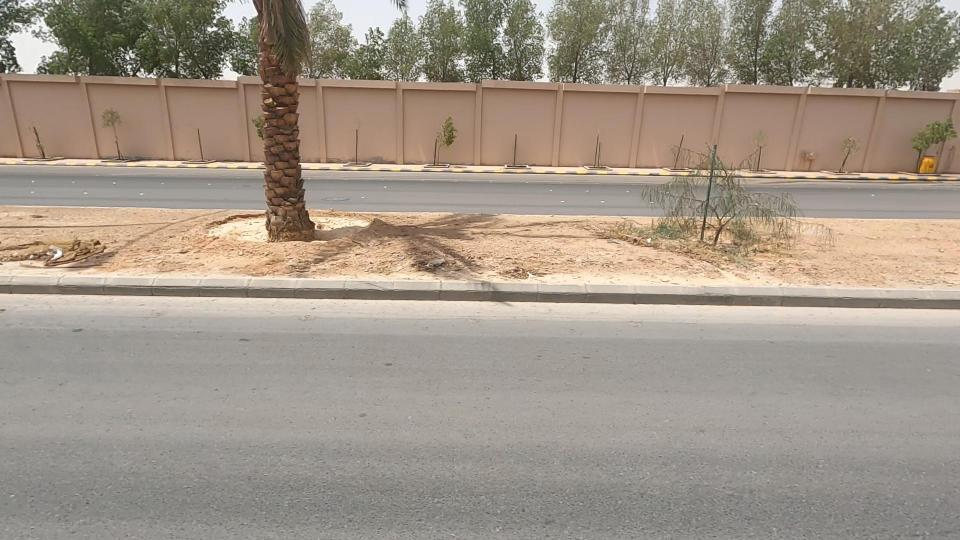CLUTTER_SIDEWALK: (207, 172, 771, 326), (0, 153, 361, 327), (696, 189, 960, 302)
